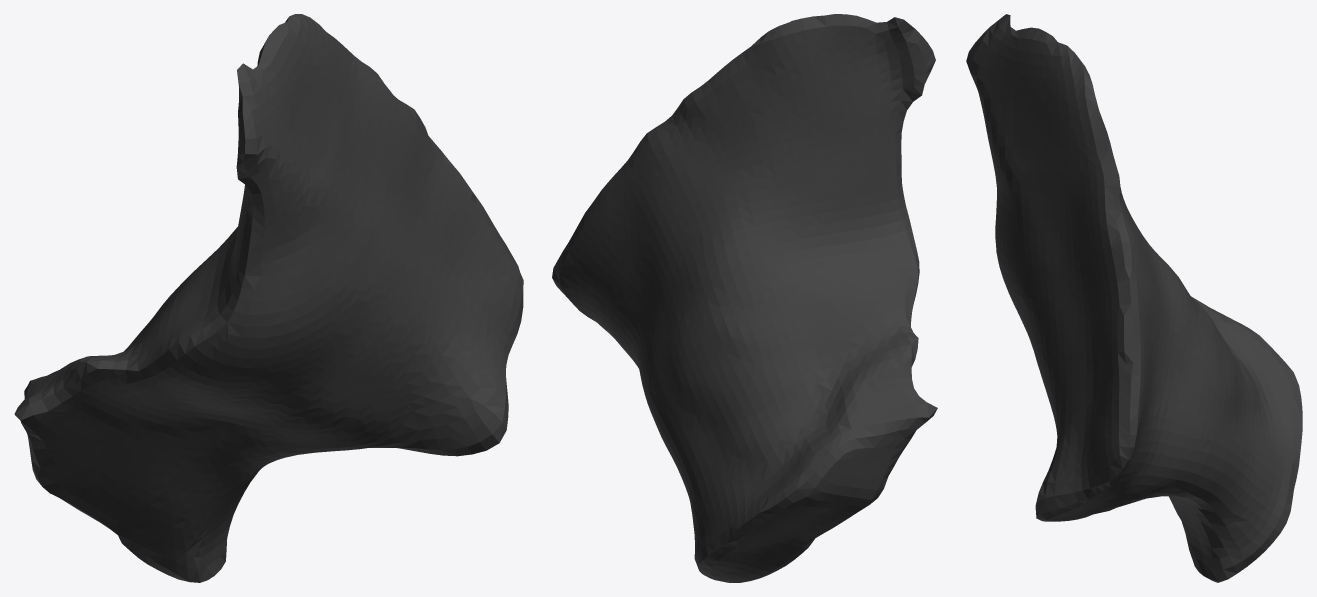
File: canine_cardiac_intervenous_tubercle.glb
3 renders of one model, left to right at view 1: azimuth 30°, elevation 25°; view 2: azimuth 150°, elevation 25°; view 3: azimuth 270°, elevation 25°, orthographic. The views are drawn at different scales.
Parts seen in each view (by area): view 1: canine_cardiac_intervenous_tubercle; view 2: canine_cardiac_intervenous_tubercle; view 3: canine_cardiac_intervenous_tubercle.
Boxes of the visible parts, x1,y1,x2,y2 form: canine_cardiac_intervenous_tubercle: [14, 14, 523, 582]; canine_cardiac_intervenous_tubercle: [552, 14, 937, 582]; canine_cardiac_intervenous_tubercle: [966, 14, 1302, 582].
Size of the model in its own units: 0.0229 by 0.0282 by 0.016.
Materials: 1 (1 with a texture image).
